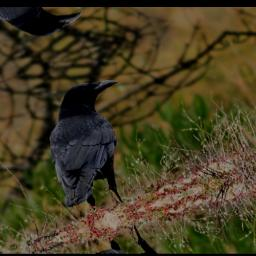Crow: (11, 72, 172, 224)
